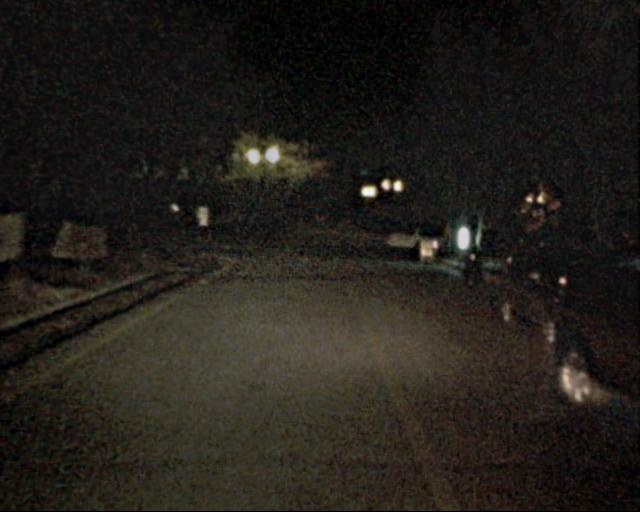person: (536, 227, 558, 280)
